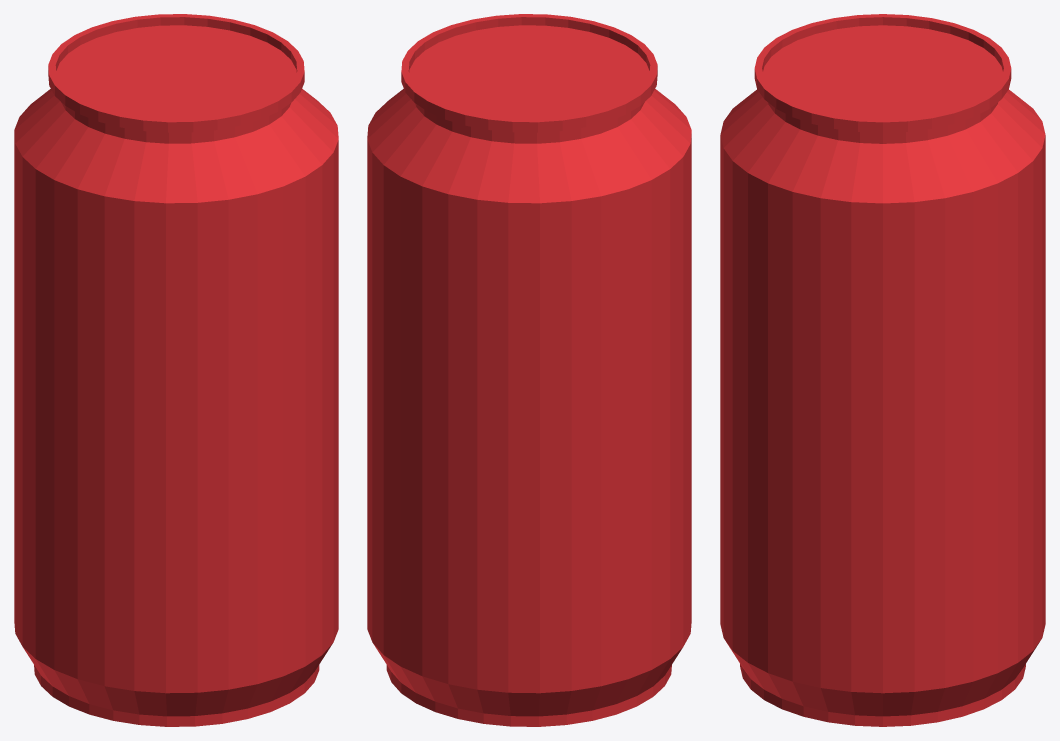
The model's file is Coke.fbx.
The picture shows the model from 3 angles, left to right: view 1: azimuth 30°, elevation 25°; view 2: azimuth 150°, elevation 25°; view 3: azimuth 270°, elevation 25°; orthographic projection.
Visible parts, largest first — view 1: Cylinder; view 2: Cylinder; view 3: Cylinder.
Part boxes in pixels (x1,y1,x2,y2): Cylinder: [14, 14, 338, 726]; Cylinder: [367, 14, 691, 726]; Cylinder: [720, 14, 1045, 726].
Bounding box in the file's own units: 110 × 224 × 110.
